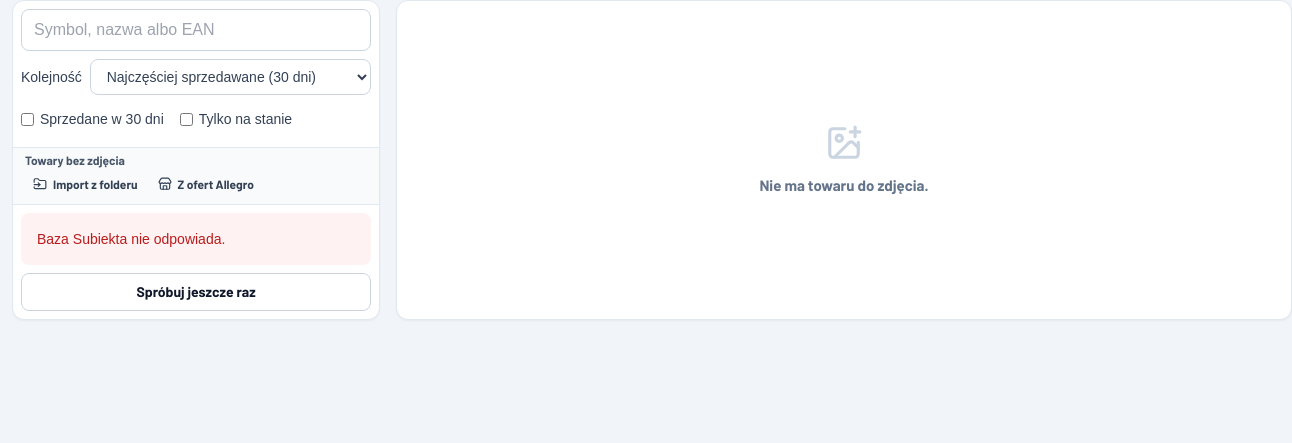
Test: Zdjęcia › awaria bazy Subiekta (503) to błąd z ponowieniem, nie wyłączona funkcja
Check: the text "Baza Subiekta nie odpowiada." is shown, box [21,213,371,265]
Click the button "Spróbuj jeszcze raz" at (196, 292), box [21,273,371,311]
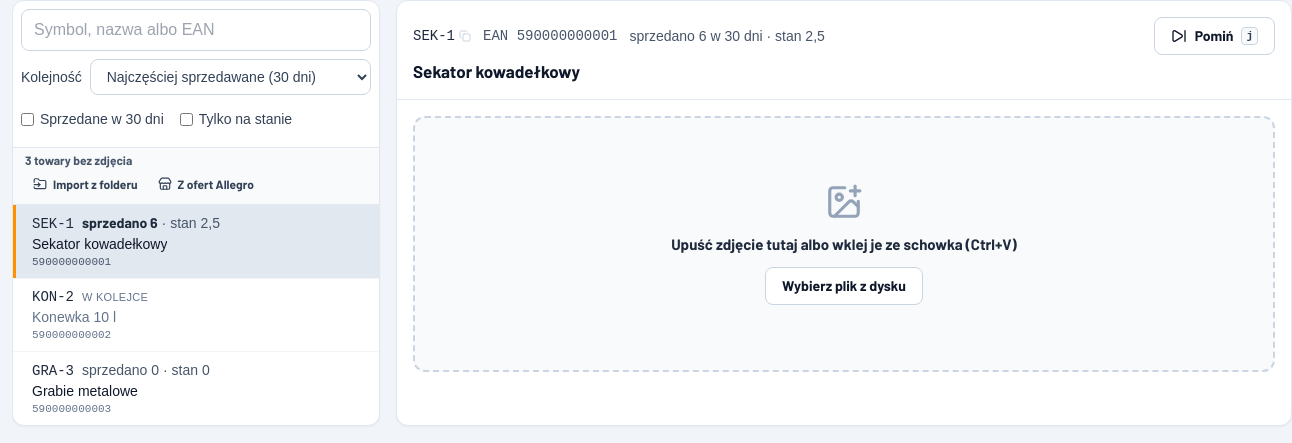
Check: the heading "Sekator kowadełkowy" is shown, box [413,61,580,81]
